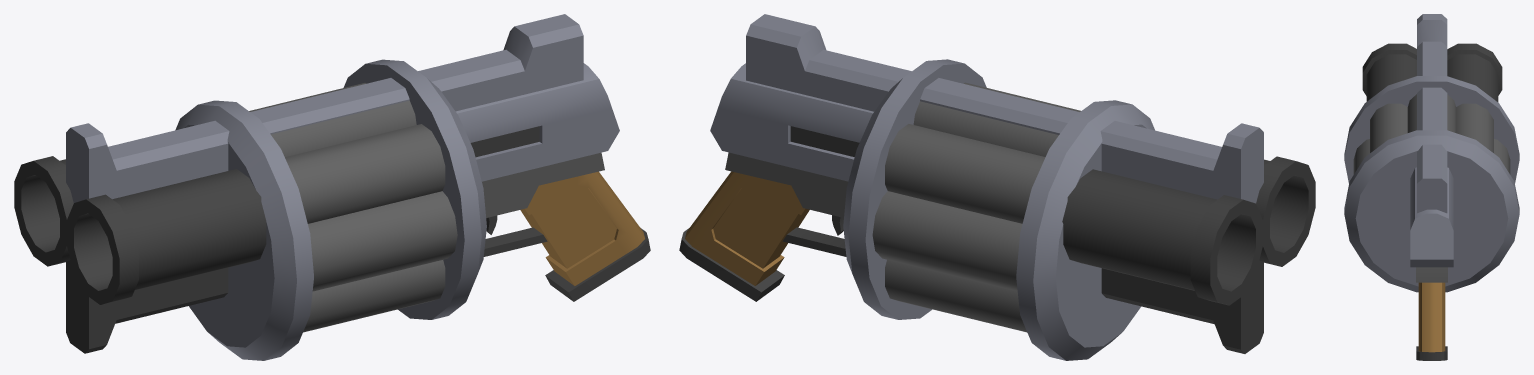
Rendered from grenade-launcher.glb.
3 renders of one model, left to right at view 1: azimuth 30°, elevation 25°; view 2: azimuth 150°, elevation 25°; view 3: azimuth 270°, elevation 25°, orthographic. The views are drawn at different scales.
Visible parts, largest first — view 1: GrenadeLauncher; view 2: GrenadeLauncher; view 3: GrenadeLauncher.
Boxes of the visible parts, x1=… form: GrenadeLauncher: x1=14, y1=14, x2=650, y2=360; GrenadeLauncher: x1=679, y1=14, x2=1315, y2=360; GrenadeLauncher: x1=1344, y1=14, x2=1519, y2=360.
Bounding box in the file's own units: 1.2 × 0.555 × 0.4779.
